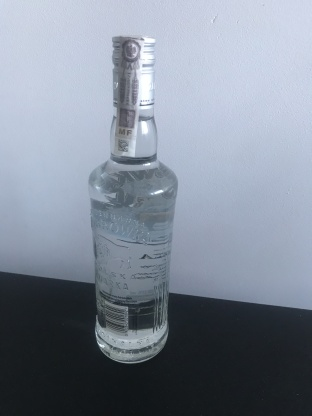nakretka: (108, 31, 157, 112)
